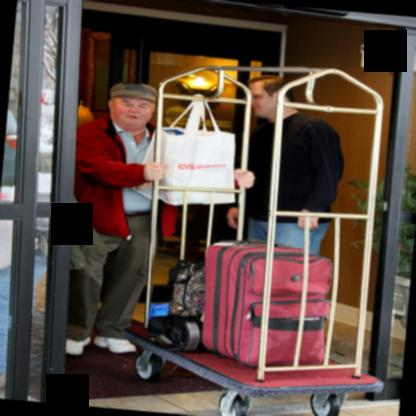backpack: (168, 259, 206, 319), (148, 313, 207, 351)
handbag: (160, 102, 239, 207)
suitcase: (202, 238, 334, 369)
